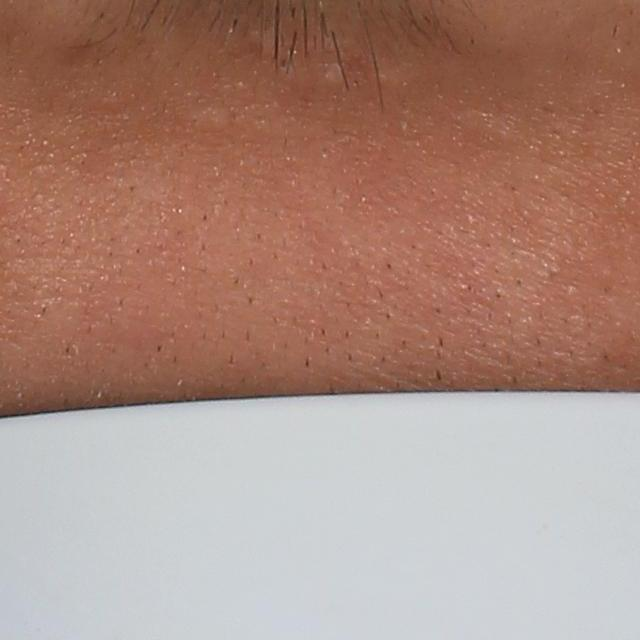hypertrophic_scar: (184, 106, 231, 132), (319, 60, 349, 90)
